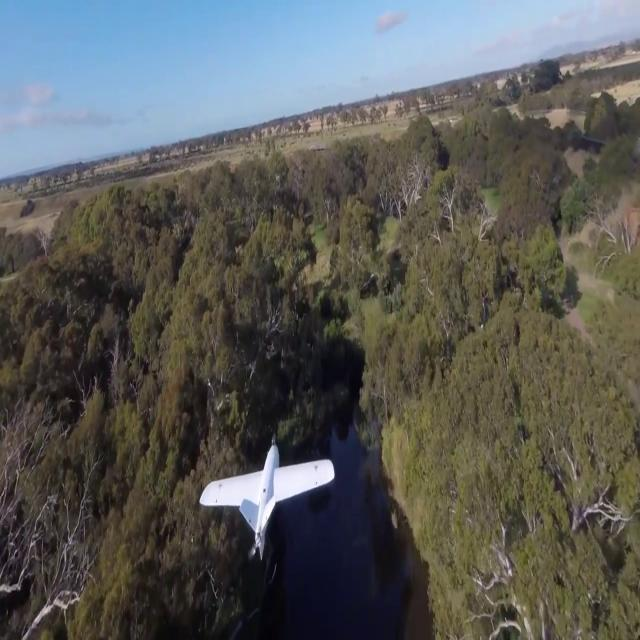iha: (194, 475, 327, 521)
